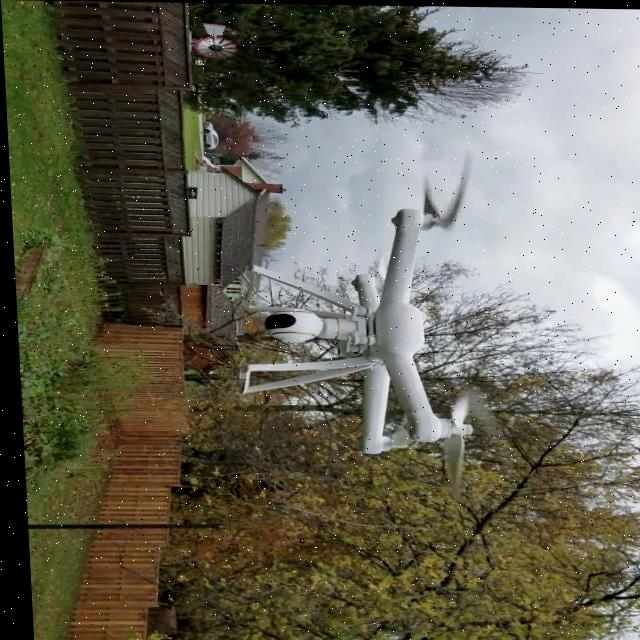drone: (313, 144, 492, 478)
